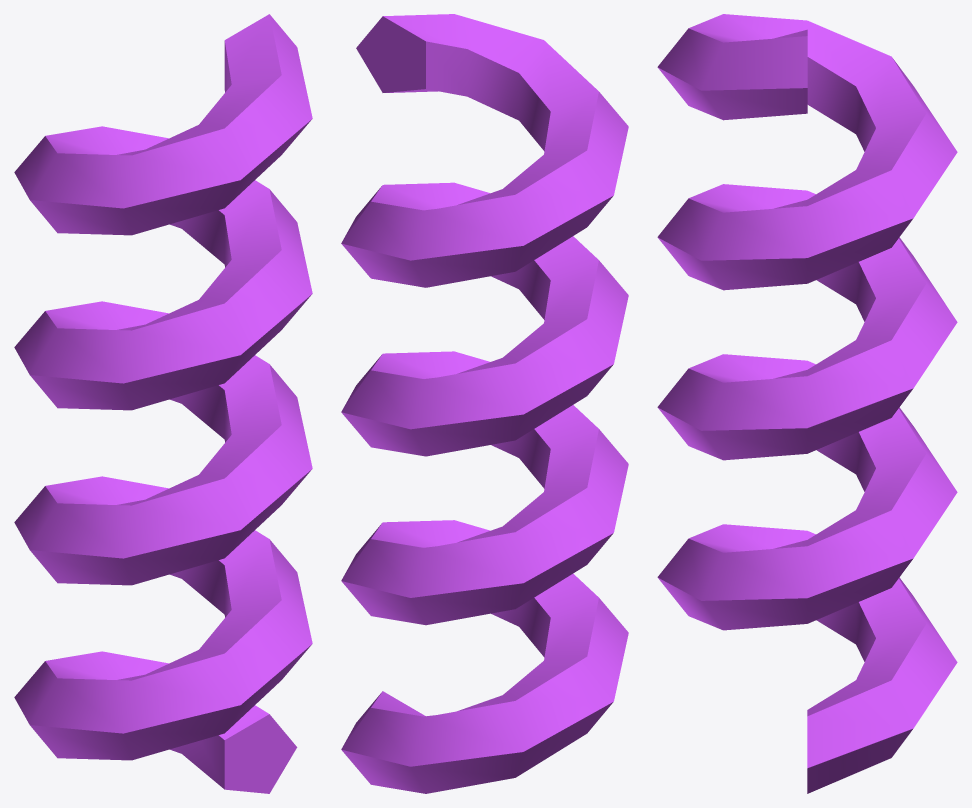
Rendered from 072_helix.fbx.
3 renders of one model, left to right at view 1: azimuth 30°, elevation 25°; view 2: azimuth 150°, elevation 25°; view 3: azimuth 270°, elevation 25°, orthographic. The views are drawn at different scales.
Visible parts, largest first — view 1: HELIX; view 2: HELIX; view 3: HELIX.
Part boxes in pixels (x1,y1,x2,y2): HELIX: (14,14,312,793); HELIX: (341,14,628,793); HELIX: (657,14,957,793).
Size of the model in its own units: 40 by 111 by 40.
